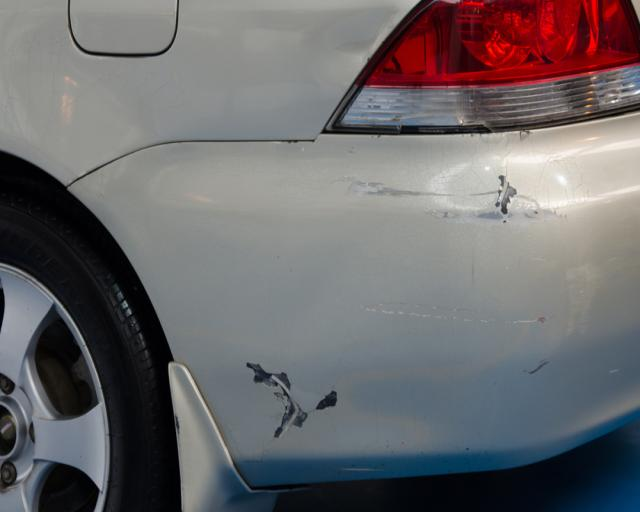lamp broken: (323, 0, 640, 134)
scratch: (349, 161, 571, 226), (243, 362, 340, 443)
